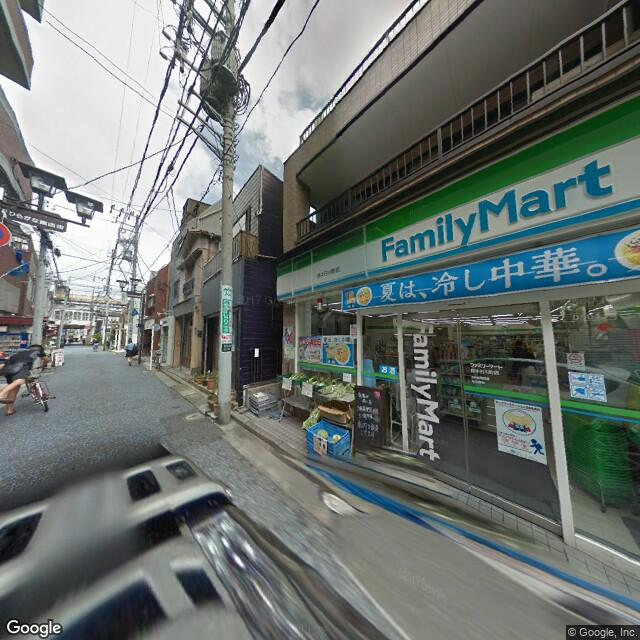family_mart: (276, 91, 639, 298), (377, 147, 618, 269), (405, 311, 448, 467)
